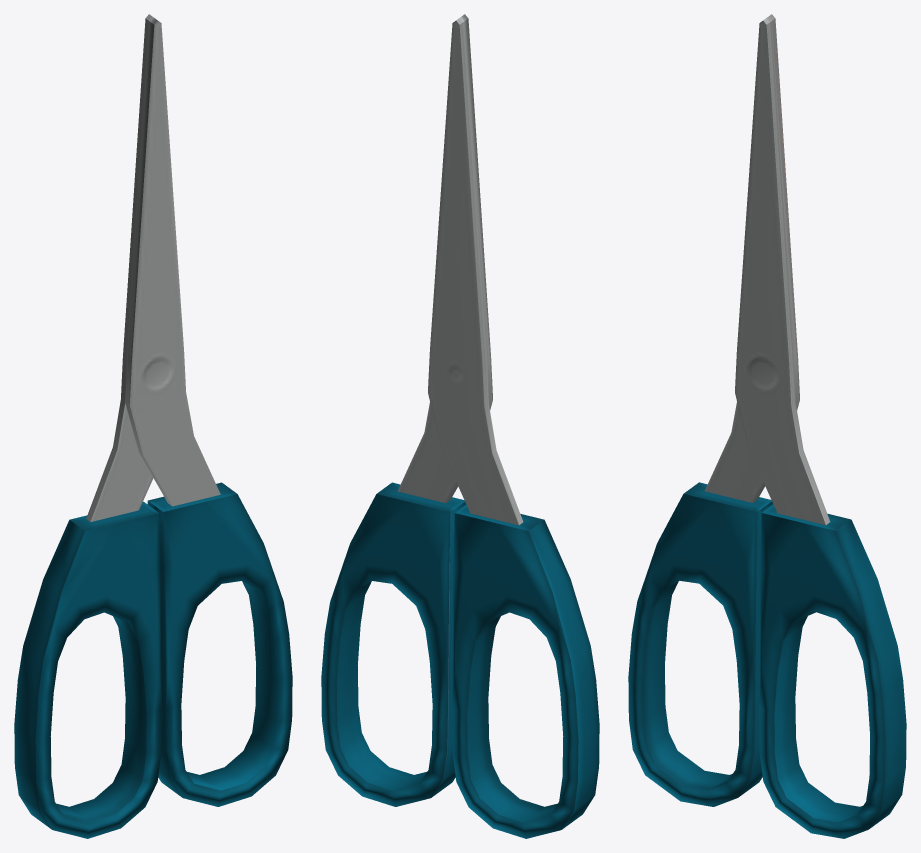
Rendered from Scissors.fbx.
3 views of the same model, side by side, from view 1: azimuth 30°, elevation 25°; view 2: azimuth 150°, elevation 25°; view 3: azimuth 330°, elevation 25° (orthographic).
Parts seen in each view (by area): view 1: Scissors; view 2: Scissors; view 3: Scissors.
Part boxes in pixels (x1,y1,x2,y2): Scissors: [14, 14, 292, 838]; Scissors: [321, 14, 599, 838]; Scissors: [628, 14, 906, 838].
Size of the model in its own units: 4.23 by 12.51 by 0.6078.
